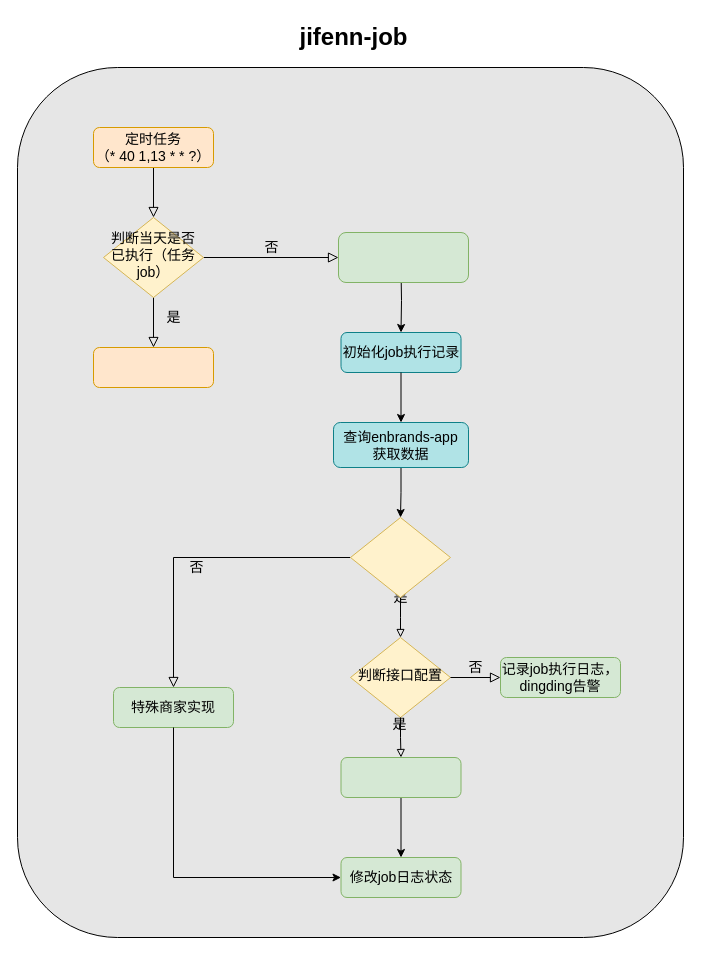
Image size: 701x955. Some labels were removed from this diagram. Each missing label, with the centre of its shape:
任务结束: the point at 153,367
是否标准 对接商家: the point at 400,557
查询配置表接口， 推送数据: the point at 400,777
查询需要执行job的商家（平台库）: the point at 403,257
